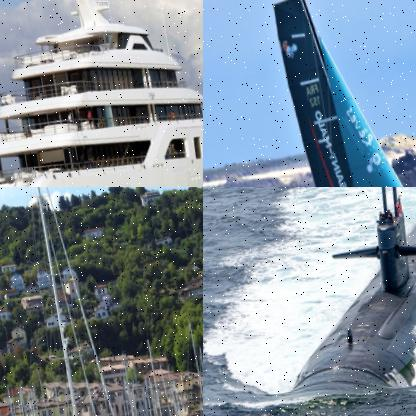Sails Boat: (0, 187, 137, 415), (267, 0, 415, 186), (134, 336, 183, 415)
Submarine: (253, 187, 415, 405)
Yacht: (0, 0, 202, 186)
